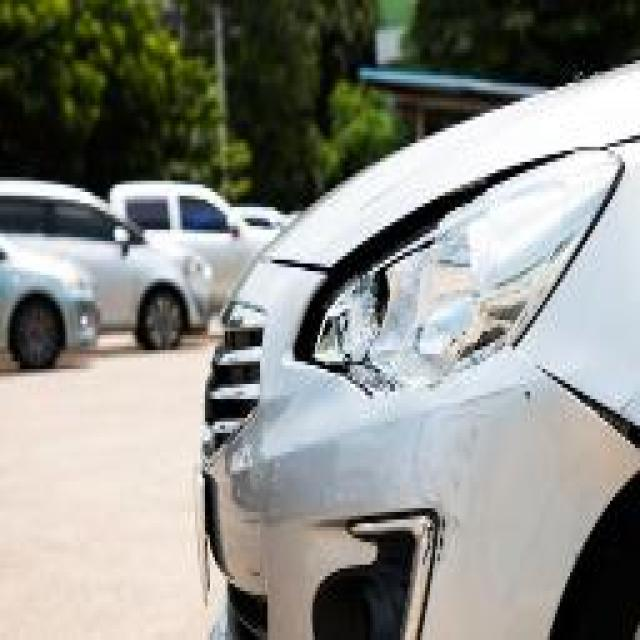Bumper: (402, 388, 518, 561)
Light: (322, 162, 600, 384)
